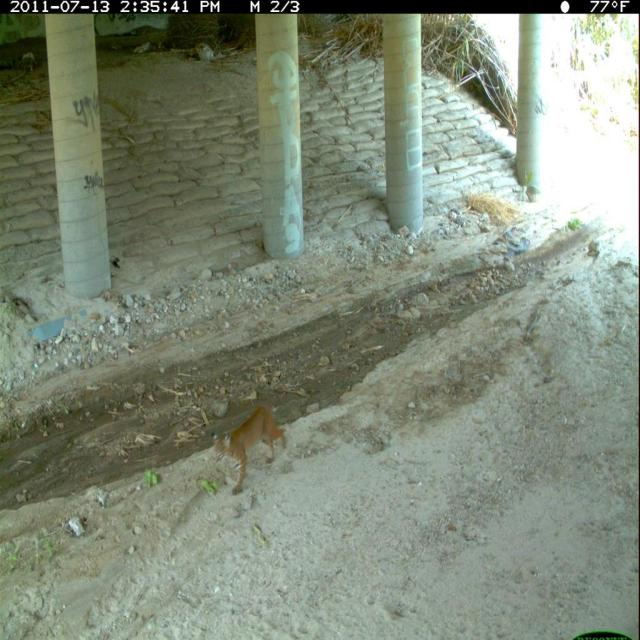bobcat: (209, 398, 291, 499)
